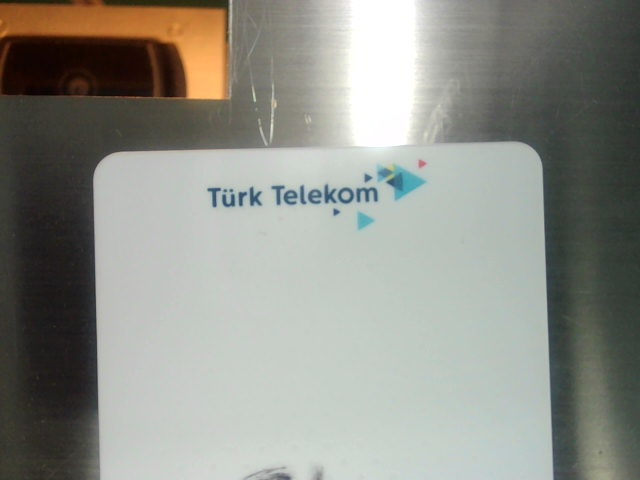AQ_TURKTelekom: (201, 158, 434, 234)
